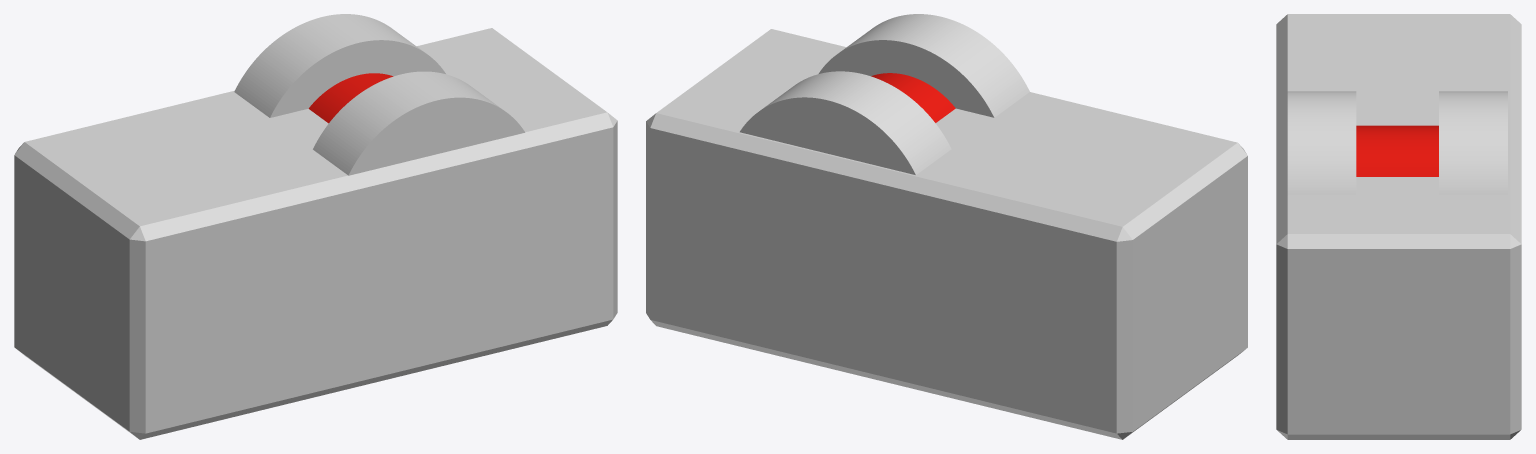
File: littleSwitch.fbx
3 renders of one model, left to right at view 1: azimuth 30°, elevation 25°; view 2: azimuth 150°, elevation 25°; view 3: azimuth 270°, elevation 25°, orthographic. The views are drawn at different scales.
Visible parts, largest first — view 1: Cube; view 2: Cube; view 3: Cube.
Boxes of the visible parts, <box> form: Cube: <box>14,14,617,439</box>; Cube: <box>646,14,1247,439</box>; Cube: <box>1276,14,1521,439</box>.
Size of the model in its own units: 478 by 250 by 216.
